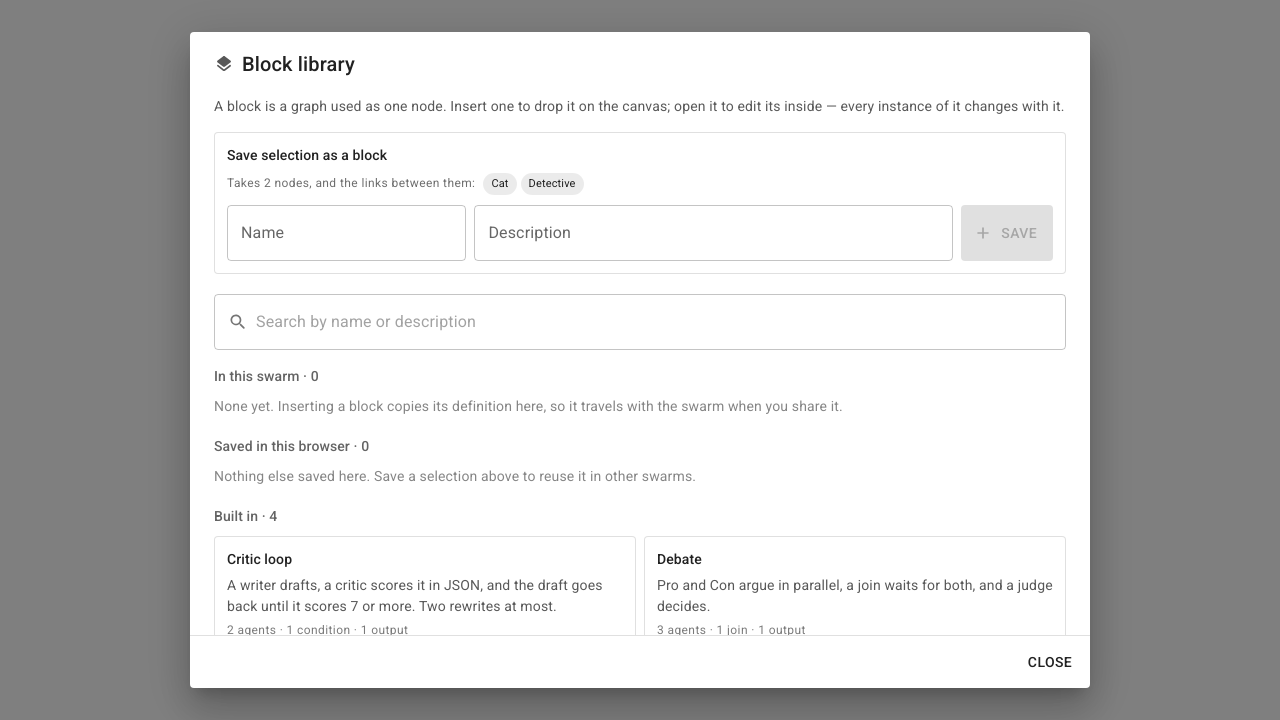
Test case: saving the selection creates a block in this browser and in this swarm
The image size is (1280, 720).
Expected: the text "Takes 2 nodes, and the links between them:" is shown, [227,174,475,194]
Type "Interrogation" into the field labelled "Name" at (347, 233), box [227,205,466,261]
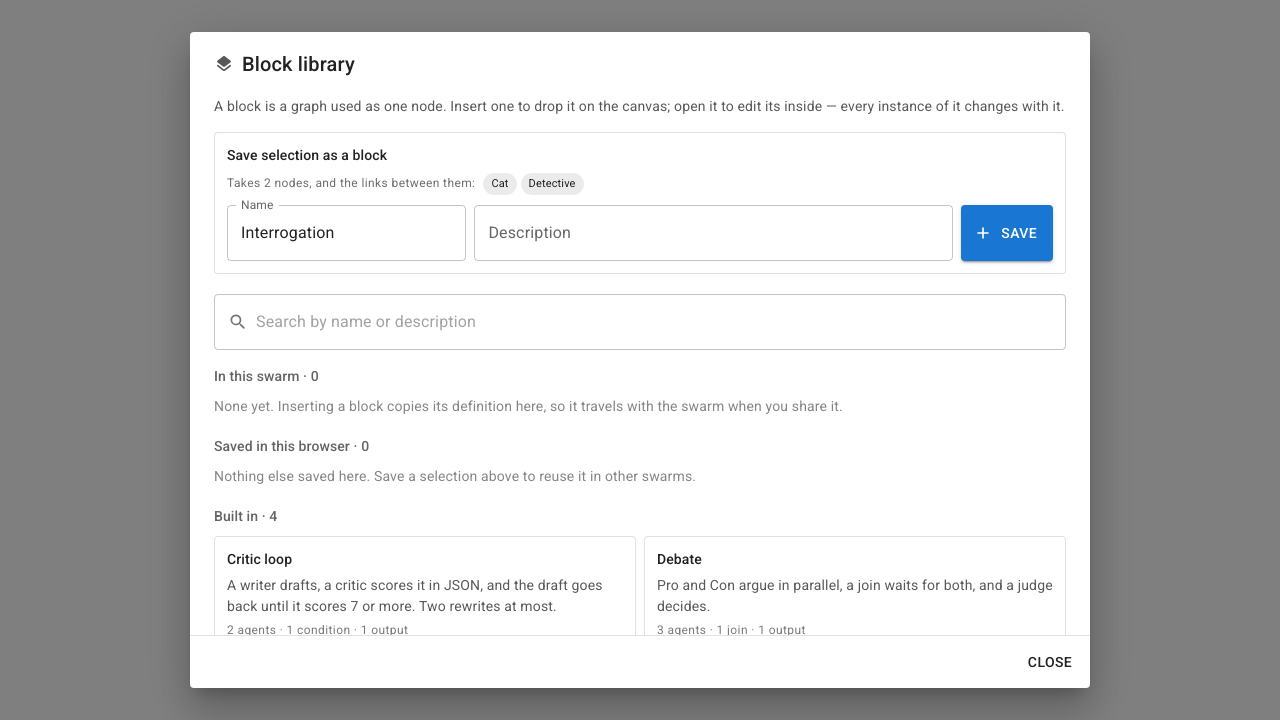
Type "Detective questions the cat." into the field labelled "Description" at (714, 233), box [474,205,953,261]
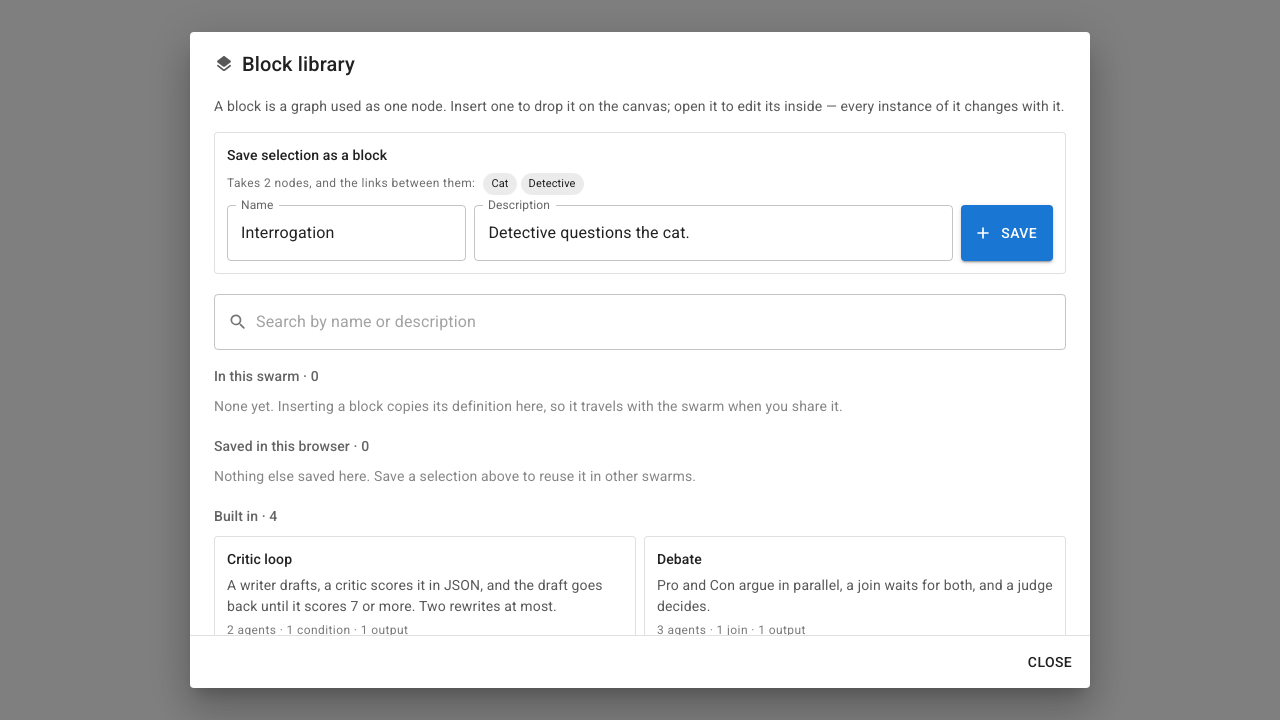
Click the button "Save" at (1007, 233), box [961,205,1053,261]
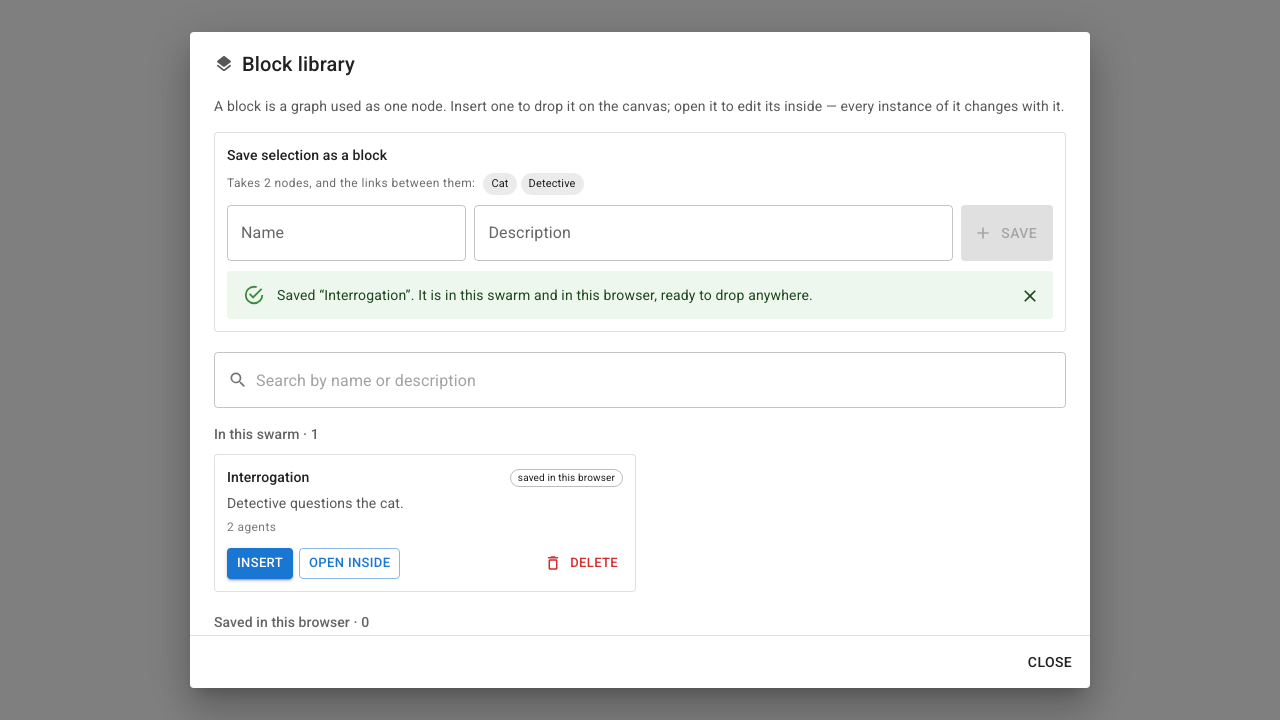
Now the heading "Interrogation" is shown, box [227,469,309,485]
Now the text "Saved “Interrogation”" is shown, box [277,287,813,303]
